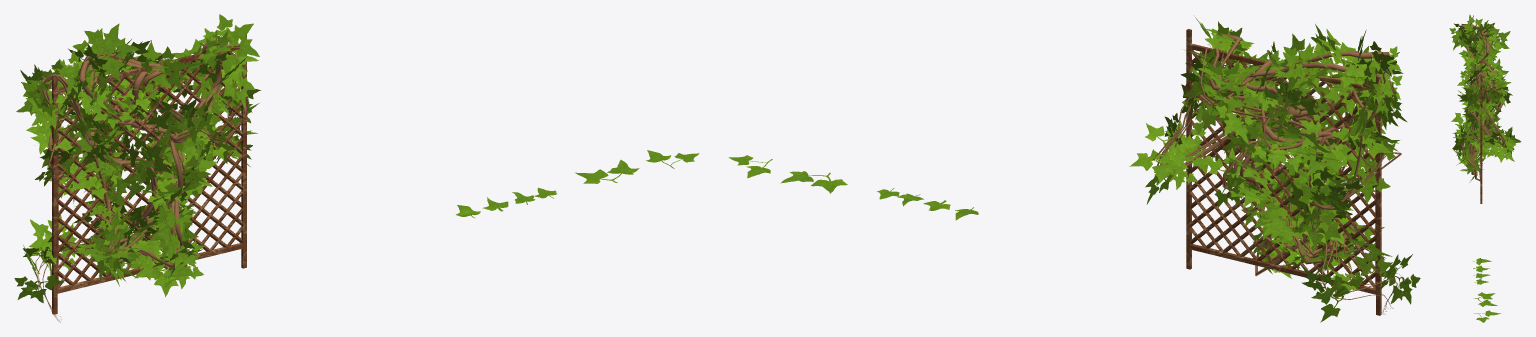
Rendered from hiedra.glb.
3 views of the same model, side by side, from view 1: azimuth 30°, elevation 25°; view 2: azimuth 150°, elevation 25°; view 3: azimuth 270°, elevation 25° (orthographic). The views are drawn at different scales.
Parts seen in each view (by area): view 1: Object_2, Object_9, Object_8; view 2: Object_2, Object_9, Object_8; view 3: Object_2, Object_8, Object_9.
Boxes of the visible parts, x1,y1,x2,y2 form: Object_2: (14, 14, 699, 303); Object_9: (52, 35, 246, 314); Object_8: (35, 40, 240, 322); Object_2: (728, 17, 1420, 322); Object_9: (1186, 29, 1381, 315); Object_8: (1153, 33, 1402, 314); Object_2: (1449, 14, 1520, 322); Object_8: (1460, 24, 1506, 180); Object_9: (1480, 49, 1482, 203).
Bounding box in the file's own units: 7.32 × 2.84 × 1.24.
3 materials, 2 textured.
